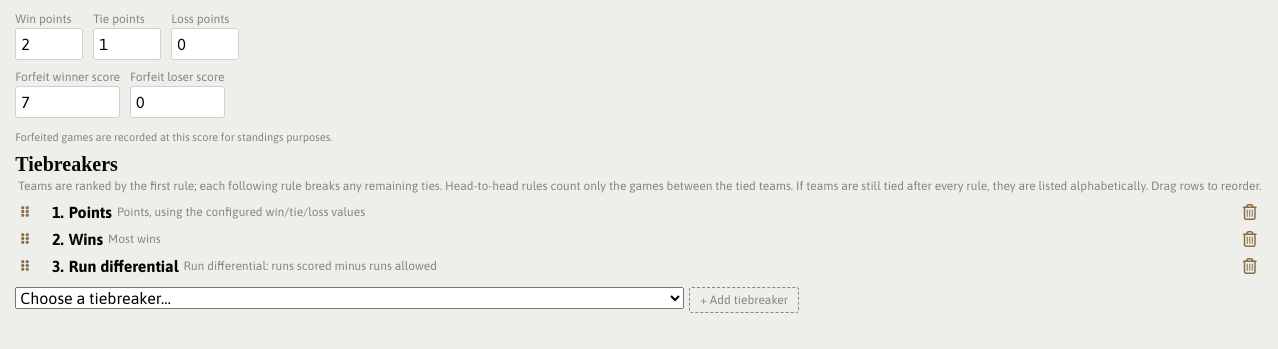
Test: StandingsRulesEditor › reports a problem when the forfeit loser score meets the winner score
Step 1. Replace the text in the number field labelled "Forfeit loser score" with "7" → (177, 102), box [130,86,224,118]
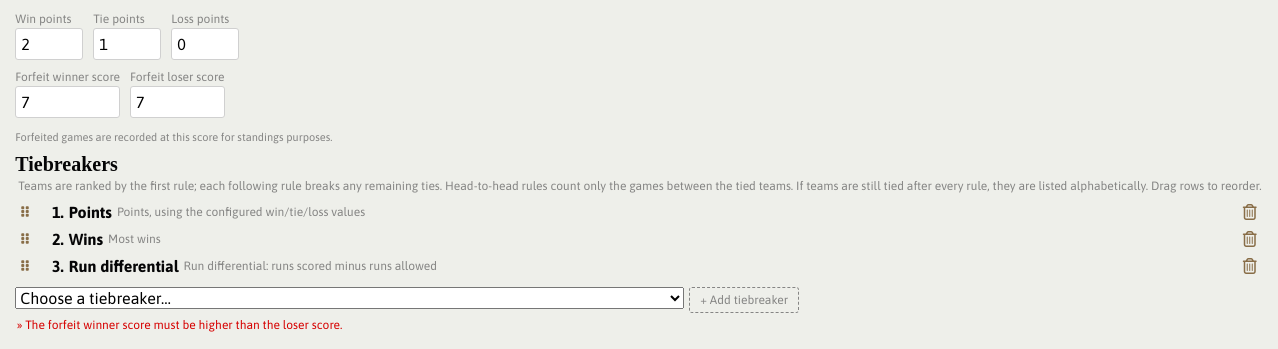
Now the list item "The forfeit winner score must be higher than the loser score." is shown, box [25,318,342,332]
